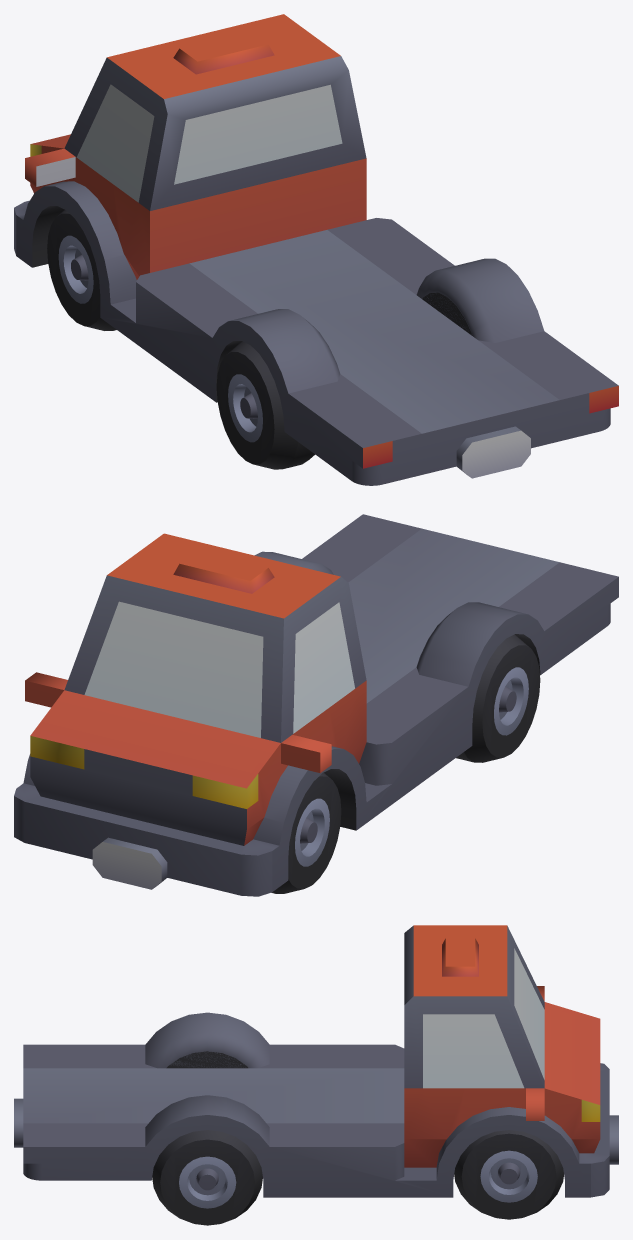
File: delivery_flat.fbx
The picture shows the model from 3 angles, top to bottom: view 1: azimuth 30°, elevation 25°; view 2: azimuth 150°, elevation 25°; view 3: azimuth 270°, elevation 25°; orthographic projection. The views are drawn at different scales.
Visible parts, largest first — view 1: wheel-back-left; view 2: wheel-back-left; view 3: wheel-back-left.
Part boxes in pixels (left/top/right/bottom): wheel-back-left: left=14, top=14, right=618, bottom=485; wheel-back-left: left=14, top=514, right=618, bottom=896; wheel-back-left: left=14, top=925, right=618, bottom=1225.
Bounding box in the file's own units: 0.4615 × 0.4154 × 1.
